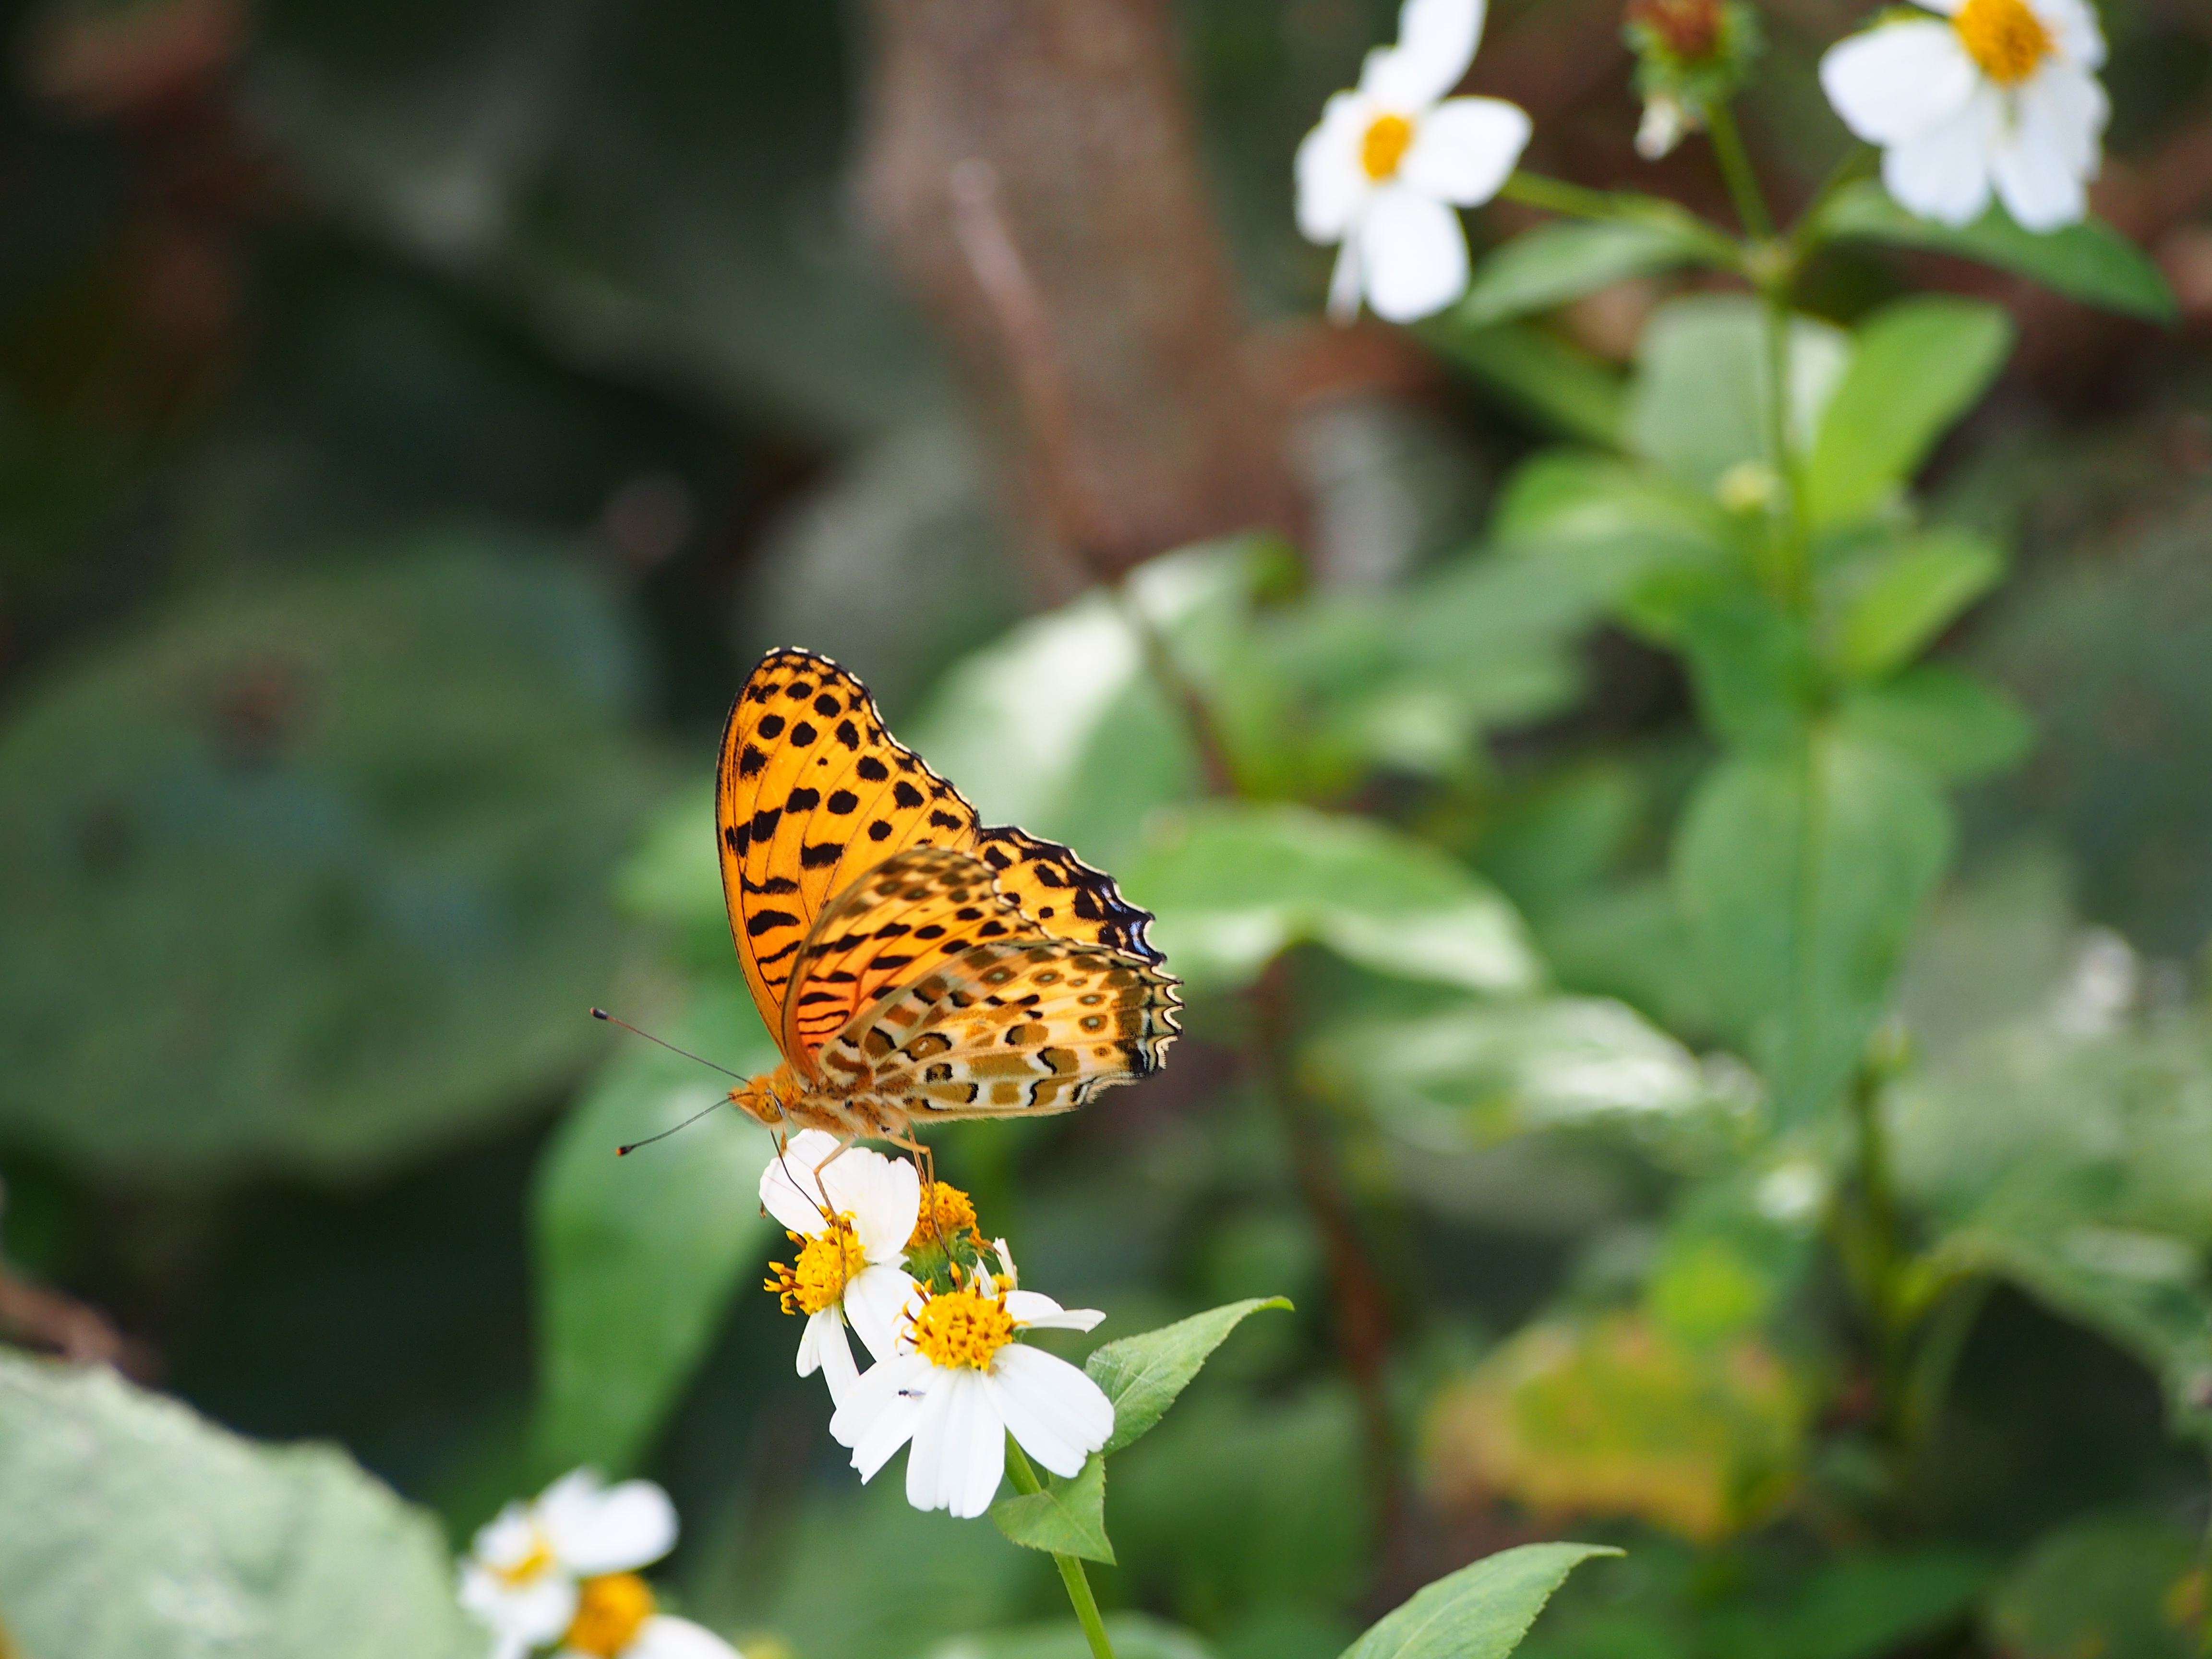Argyreus hyperbius: (571, 648, 1209, 1269)
butterfly: (573, 648, 1211, 1270)
